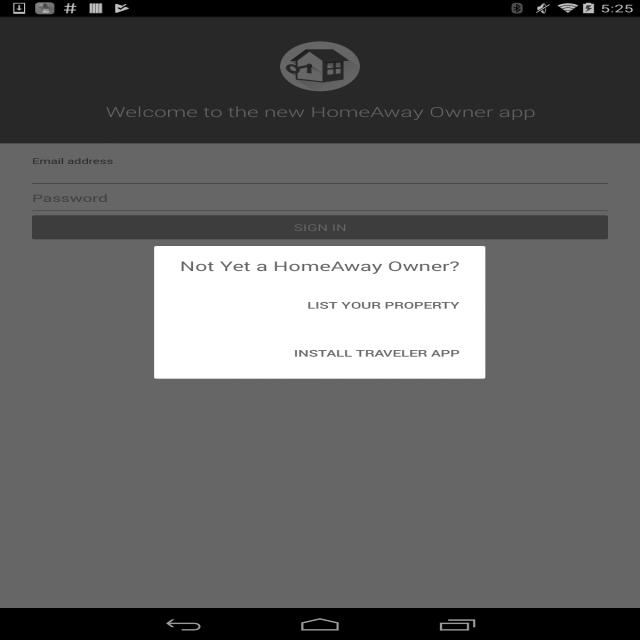Button: (26, 215, 612, 241)
EditText: (26, 153, 624, 189), (24, 192, 626, 213)
ImageView: (270, 39, 370, 95)
TextView: (103, 103, 548, 126), (172, 256, 463, 276), (288, 345, 466, 361), (302, 296, 463, 313)
